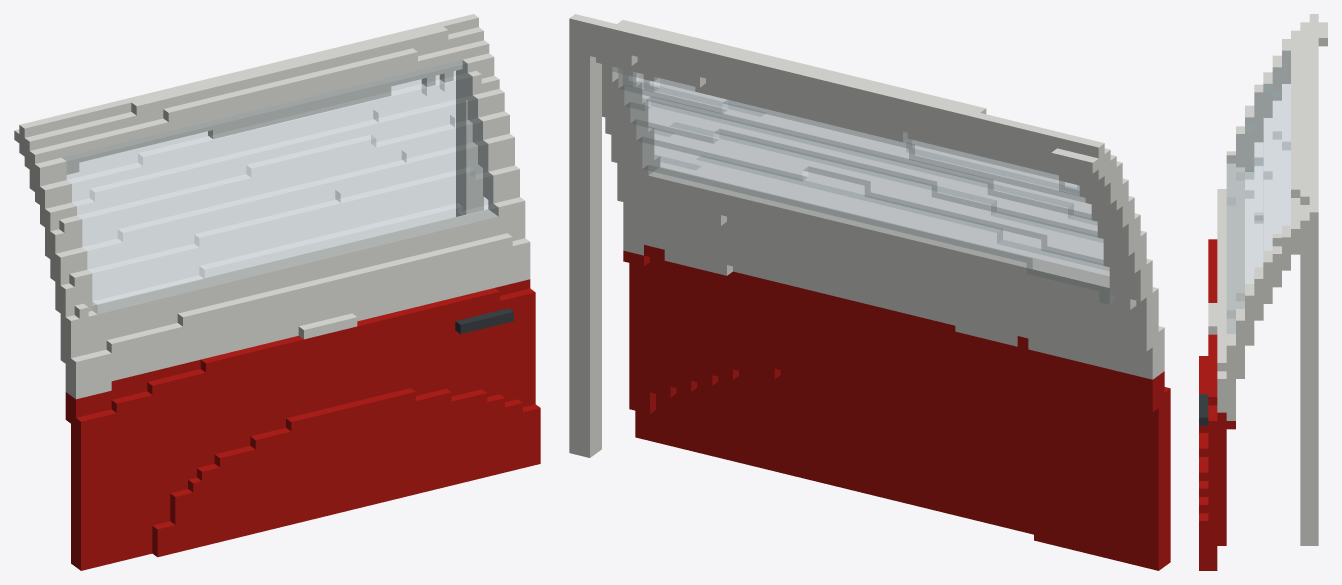
File: air_ambulance_sliding_door.glb
3 views of the same model, side by side, from view 1: azimuth 30°, elevation 25°; view 2: azimuth 150°, elevation 25°; view 3: azimuth 270°, elevation 25° (orthographic). The views are drawn at different scales.
Visible parts, largest first — view 1: body:compound; view 2: body:compound; view 3: body:compound.
Part boxes in pixels (box(x1,y1,x2,y2)): body:compound: box(14, 14, 540, 570); body:compound: box(569, 14, 1170, 570); body:compound: box(1199, 14, 1327, 570).
Bounding box in the file's own units: 1.59 × 1.34 × 0.4375.
